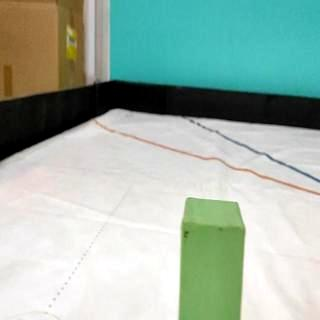greenbox: (178, 195, 248, 320)
